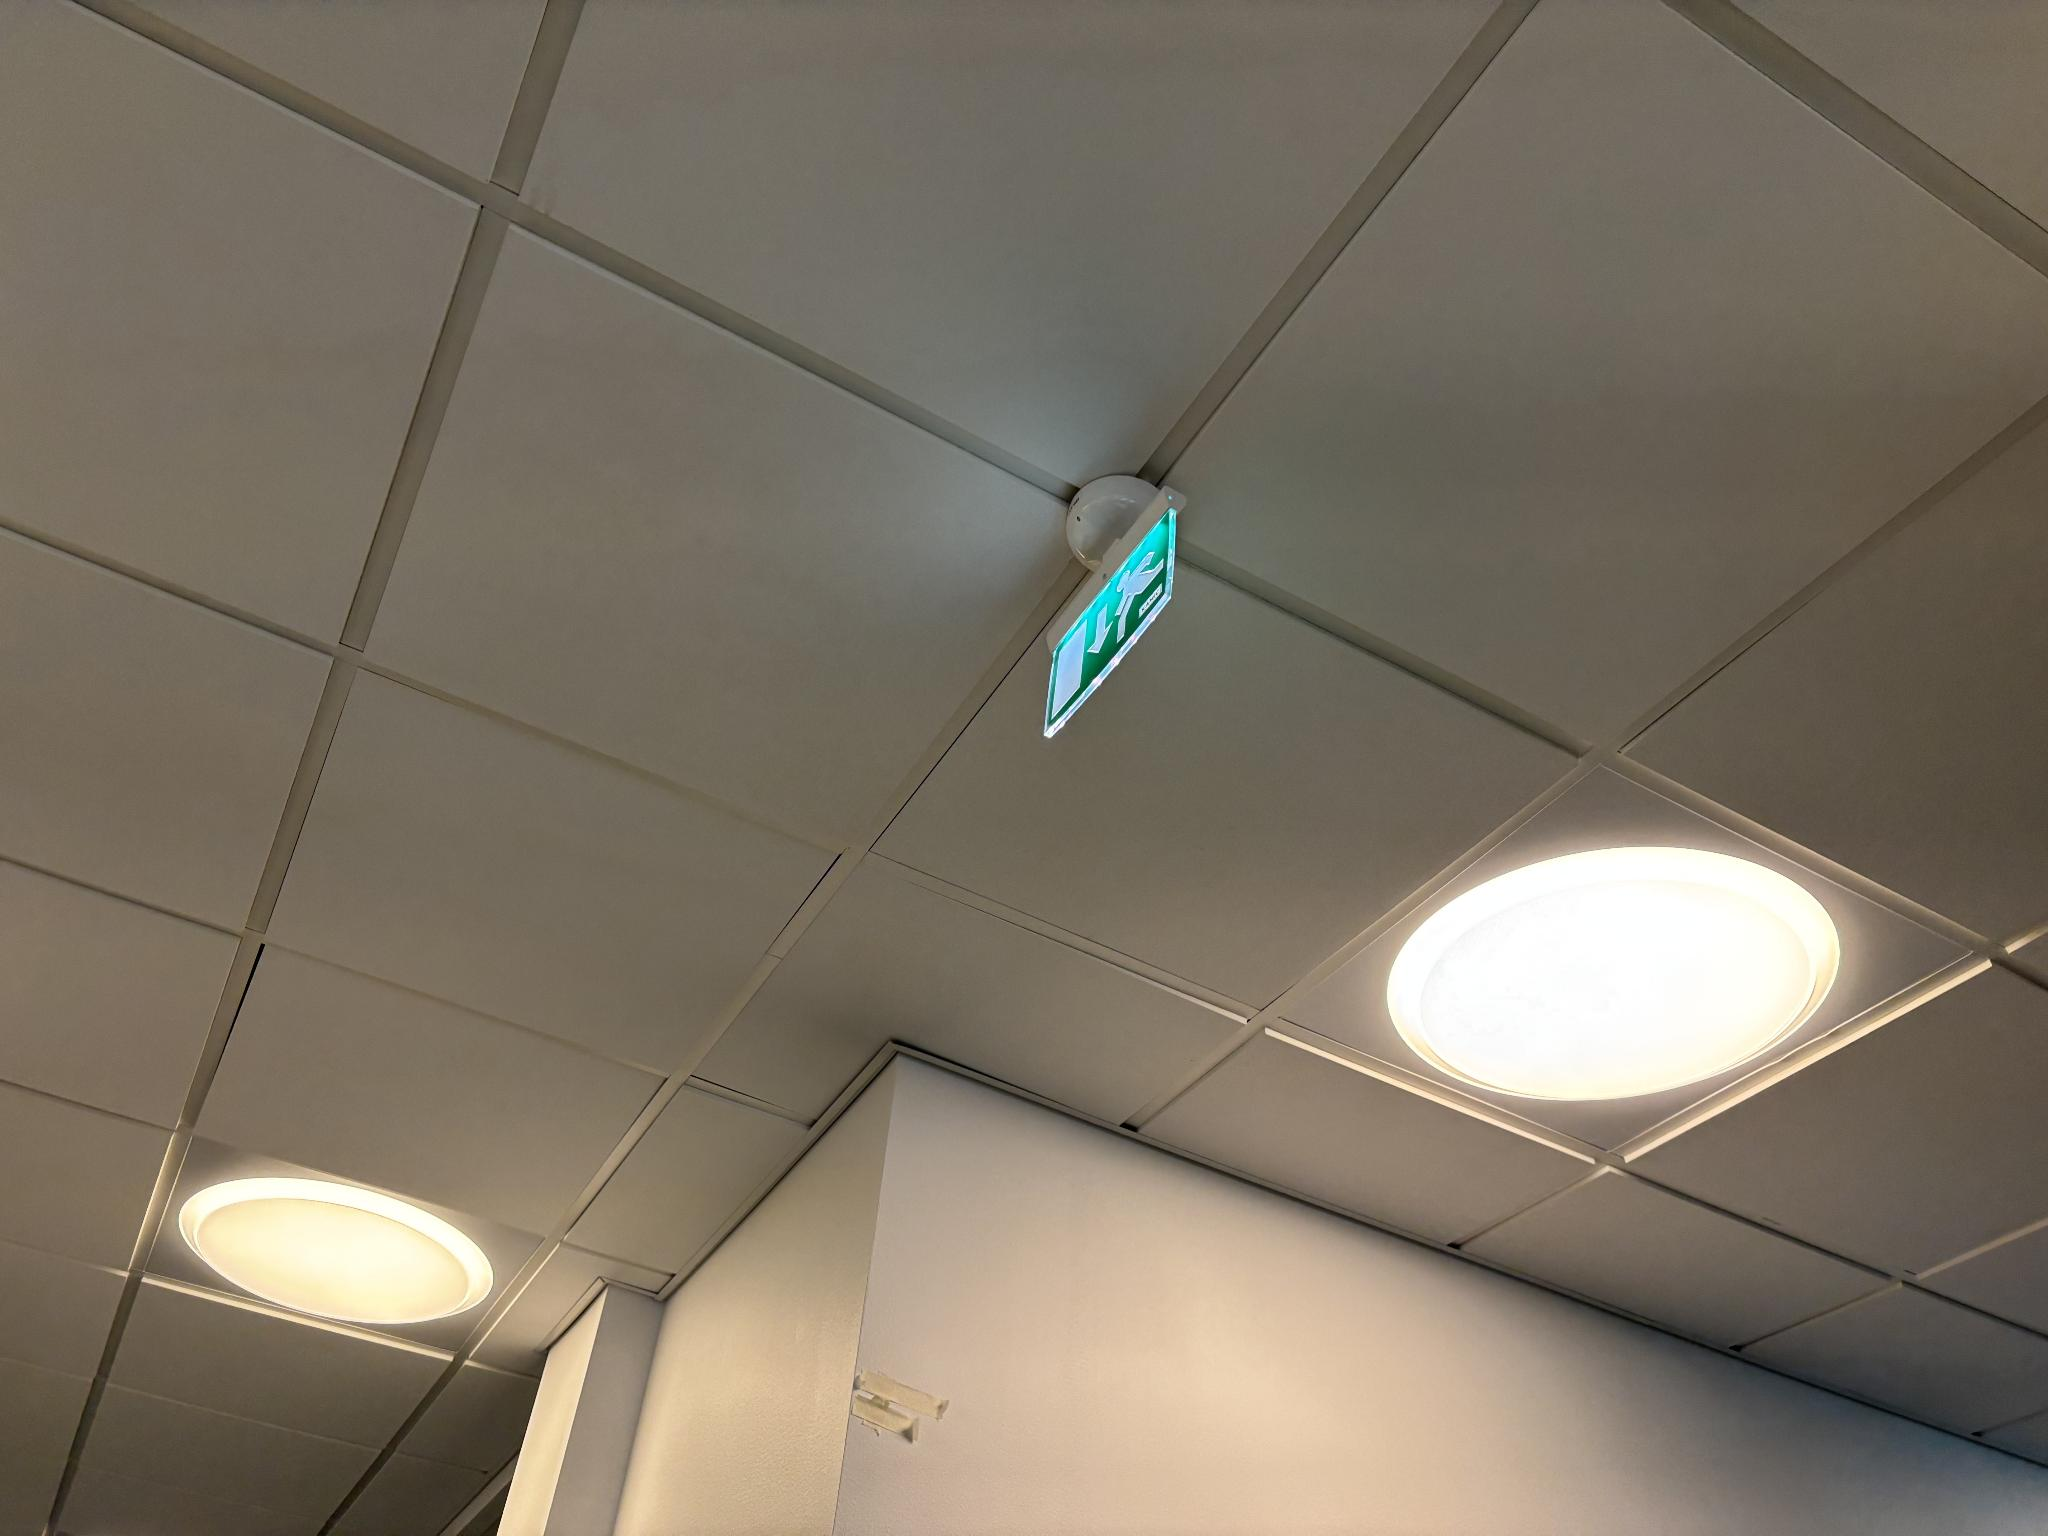exit_sign: (1051, 495, 1169, 749)
